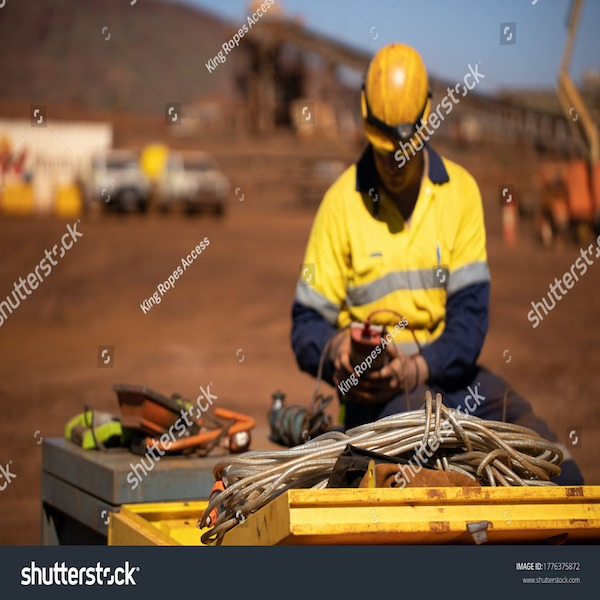helmet: (359, 43, 432, 147)
